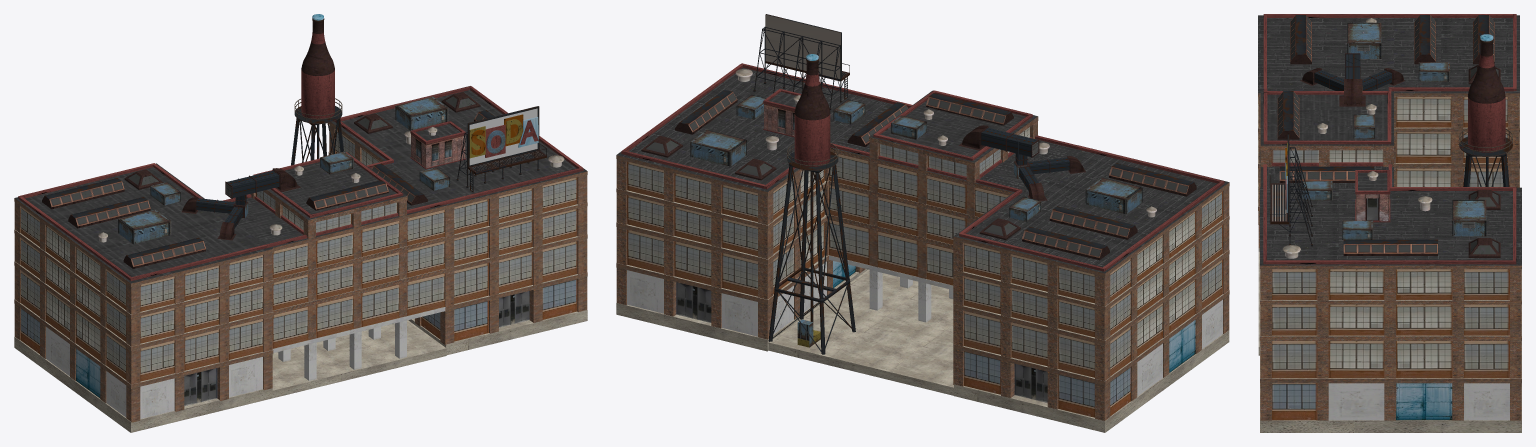
The model's file is SodaFactory.fbx.
The picture shows the model from 3 angles, left to right: view 1: azimuth 30°, elevation 25°; view 2: azimuth 150°, elevation 25°; view 3: azimuth 270°, elevation 25°; orthographic projection. The views are drawn at different scales.
Visible parts, largest first — view 1: Cube, Vent, Bottle, Board, Text, BottleStand; view 2: Cube, Vent, BottleStand, Board, Bottle; view 3: Cube, Vent, Bottle, Board, BottleStand.
Part boxes in pixels (bbox=[...]): Cube: bbox=[14, 86, 587, 432]; Vent: bbox=[42, 92, 564, 268]; Bottle: bbox=[301, 14, 334, 119]; Board: bbox=[456, 106, 546, 192]; Text: bbox=[469, 114, 538, 158]; BottleStand: bbox=[291, 98, 343, 165]; Cube: bbox=[616, 63, 1229, 432]; Vent: bbox=[641, 69, 1196, 260]; BottleStand: bbox=[768, 143, 855, 354]; Board: bbox=[753, 14, 849, 110]; Bottle: bbox=[794, 54, 830, 166]; Cube: bbox=[1258, 14, 1521, 432]; Vent: bbox=[1277, 15, 1500, 258]; Bottle: bbox=[1468, 34, 1505, 152]; Board: bbox=[1270, 134, 1312, 246]; BottleStand: bbox=[1459, 128, 1512, 186].
Bounding box in the file's own units: 5493 × 3121 × 2449.
